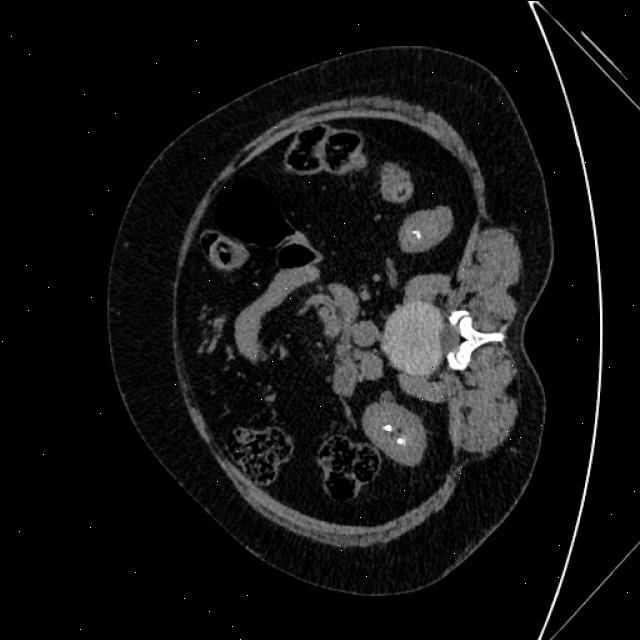kidneystone: (411, 231, 421, 239), (382, 424, 392, 431), (396, 438, 404, 445)
